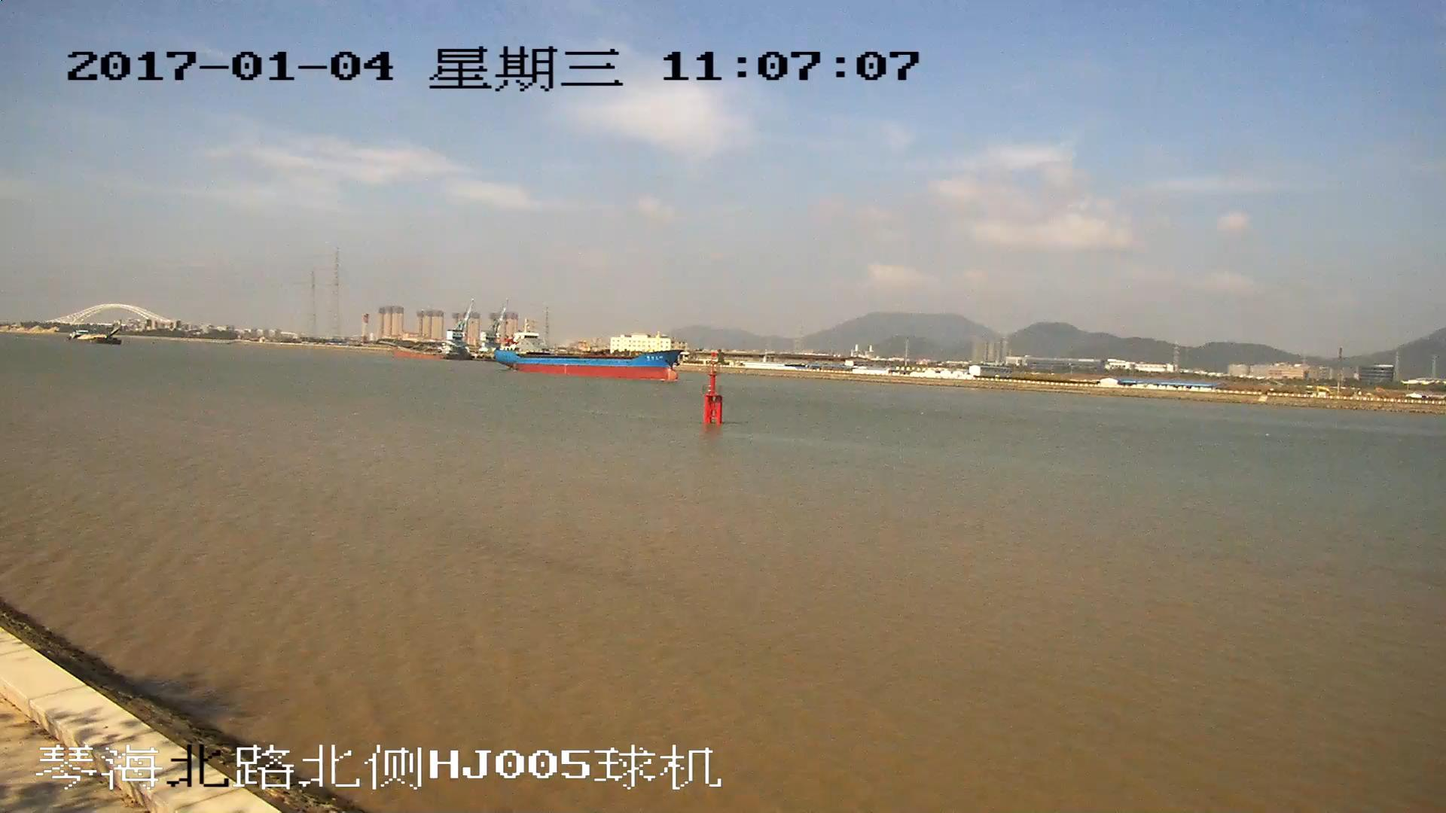general cargo ship: (493, 332, 682, 385)
